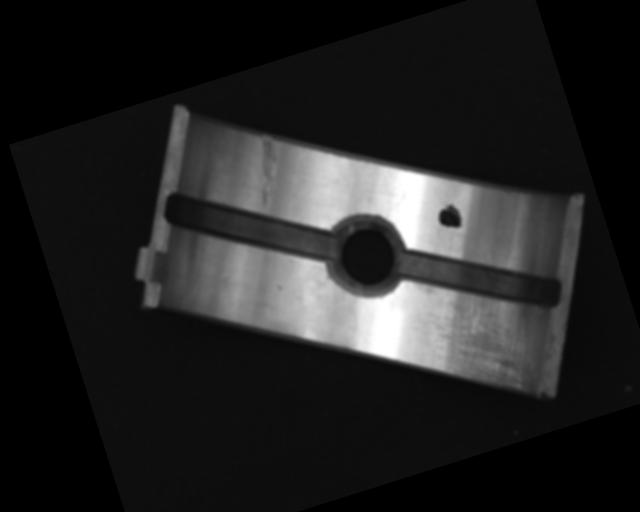blot: (434, 200, 466, 234)
bruise: (273, 279, 284, 292)
gap: (161, 153, 340, 303), (393, 210, 566, 347)
hole: (318, 207, 413, 307)
nick: (242, 131, 292, 207)
scratch: (415, 275, 548, 413)
